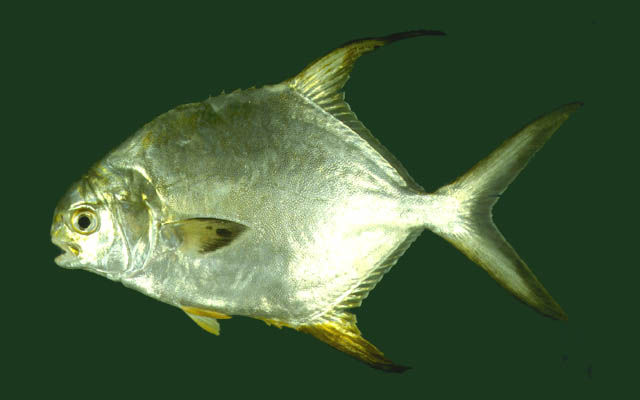fish: (49, 28, 584, 375)
